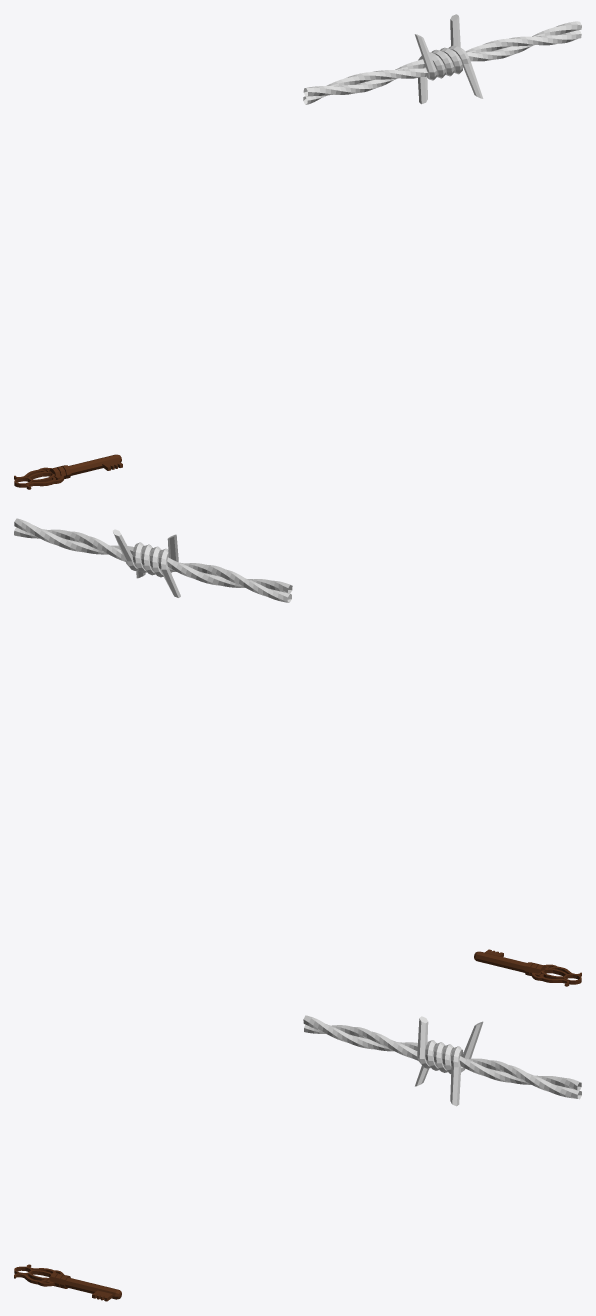
File: Key.fbx
The picture shows the model from 3 angles, top to bottom: view 1: azimuth 30°, elevation 25°; view 2: azimuth 150°, elevation 25°; view 3: azimuth 330°, elevation 25°; orthographic projection.
Visible parts, largest first — view 1: Hp_Wire, Plane, Cylinder.003; view 2: Hp_Wire, Plane, Cylinder.003; view 3: Hp_Wire, Cylinder.003, Plane.
Boxes of the visible parts, left/top/right/bottom form: Hp_Wire: left=303, top=14, right=581, bottom=104; Plane: left=14, top=467, right=63, bottom=489; Cylinder.003: left=60, top=454, right=122, bottom=475; Hp_Wire: left=14, top=518, right=292, bottom=602; Plane: left=532, top=964, right=581, bottom=986; Cylinder.003: left=474, top=949, right=535, bottom=972; Hp_Wire: left=303, top=1015, right=581, bottom=1106; Cylinder.003: left=54, top=1277, right=121, bottom=1301; Plane: left=14, top=1264, right=63, bottom=1286.
Bounding box in the file's own units: 152 × 91.64 × 13.67.
